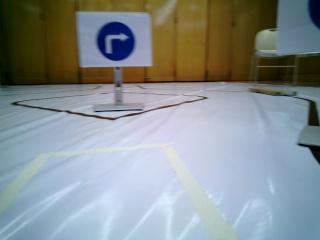right: (75, 13, 151, 66)
